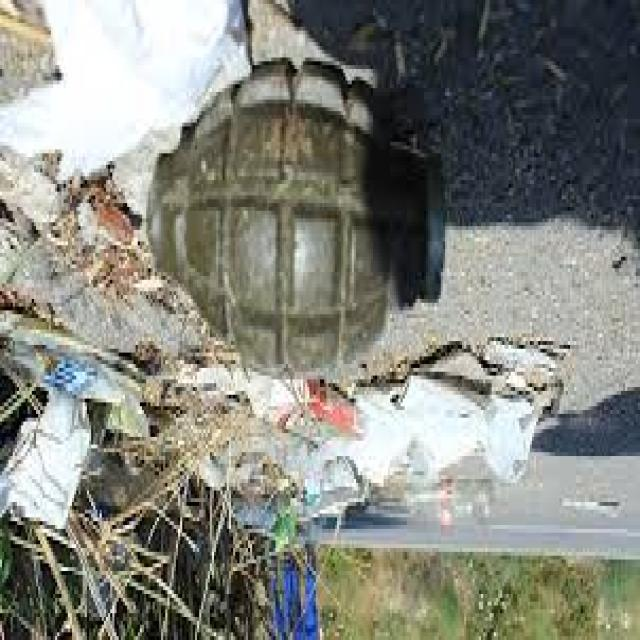grenade: (147, 57, 450, 394)
